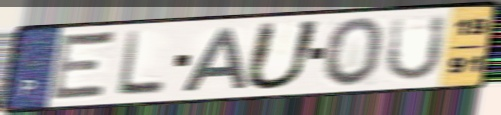A: (178, 26, 249, 94)
E: (46, 29, 120, 104)
L: (114, 29, 168, 98)
O: (322, 15, 387, 89)
U: (240, 19, 326, 93), (382, 13, 450, 84)
